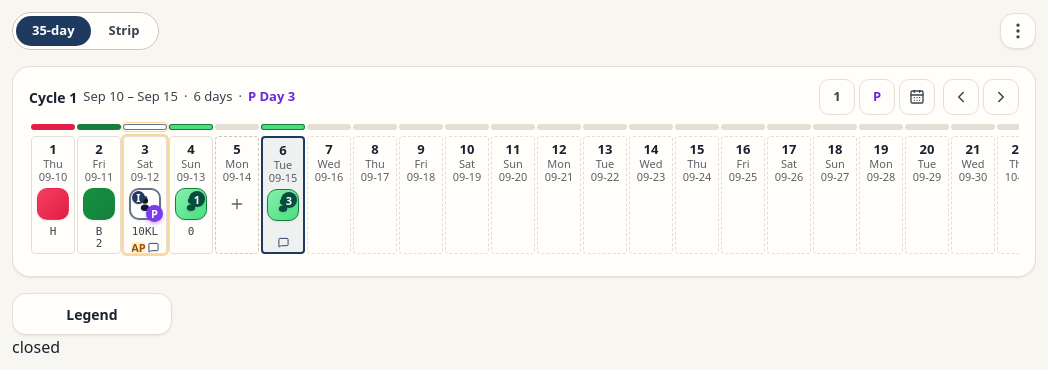
Scenario: ChartRow interactions › shows only the cycle day and the stamp in the Strip view
Click the button "Strip" at (124, 31), box [92, 16, 155, 46]
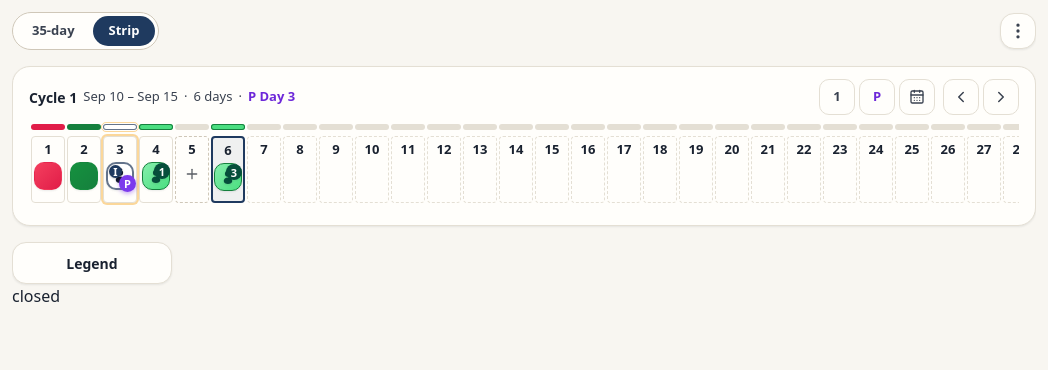
Expected: the text with class "cell-day-num" reads "6", [224, 141, 232, 159]
Expected: the element with class "cell-code" is gone
Expected: the text with class "cell-date" is gone
